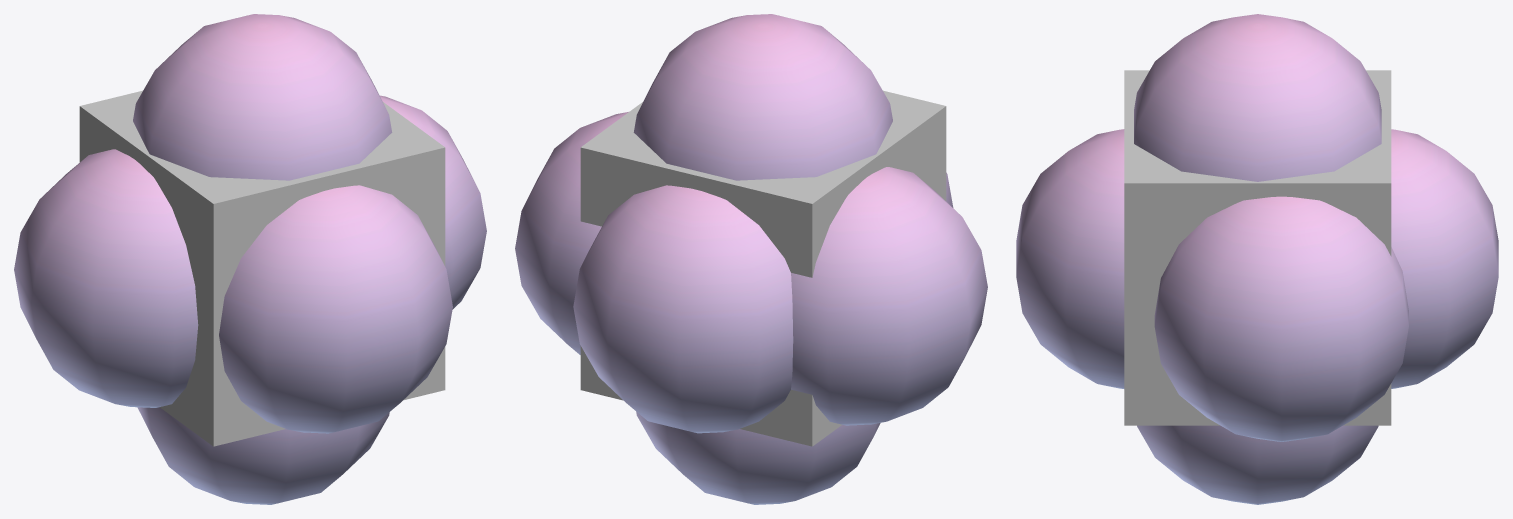
3 views of the same model, side by side, from view 1: azimuth 30°, elevation 25°; view 2: azimuth 150°, elevation 25°; view 3: azimuth 270°, elevation 25° (orthographic).
Visible parts, largest first — view 1: Sphere_2, Sphere_4, Sphere, Box_2, Sphere_1, Sphere_5; view 2: Sphere_3, Sphere_4, Sphere, Box_2, Sphere_1, Sphere_5; view 3: Sphere_5, Sphere, Box_2, Sphere_2, Sphere_3, Sphere_1.
Boxes of the visible parts, x1=… form: Sphere_2: x1=219, y1=185, x2=452, y2=433; Sphere_4: x1=14, y1=149, x2=198, y2=407; Sphere: x1=133, y1=14, x2=392, y2=180; Box_2: x1=79, y1=90, x2=445, y2=446; Sphere_1: x1=137, y1=407, x2=389, y2=504; Sphere_5: x1=380, y1=95, x2=486, y2=309; Sphere_3: x1=573, y1=185, x2=793, y2=433; Sphere_4: x1=791, y1=167, x2=987, y2=425; Sphere: x1=633, y1=14, x2=892, y2=180; Box_2: x1=580, y1=90, x2=946, y2=446; Sphere_1: x1=636, y1=411, x2=880, y2=504; Sphere_5: x1=515, y1=112, x2=628, y2=354; Sphere_5: x1=1154, y1=196, x2=1408, y2=441; Sphere: x1=1134, y1=14, x2=1381, y2=181; Box_2: x1=1124, y1=70, x2=1391, y2=425; Sphere_2: x1=1016, y1=129, x2=1124, y2=388; Sphere_3: x1=1391, y1=129, x2=1498, y2=388; Sphere_1: x1=1137, y1=425, x2=1378, y2=504.
Bounding box in the file's own units: 0.1892 × 0.1932 × 0.1805.
Materials: 9 (7 with a texture image).
